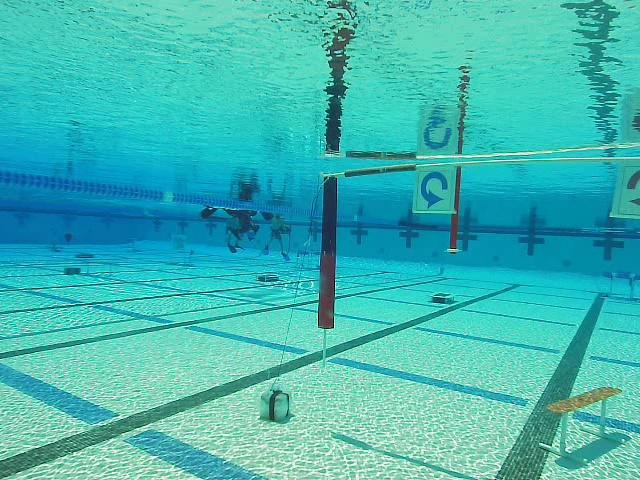gate_blue: (416, 165, 457, 213)
gate_leg_l: (317, 173, 339, 330)
